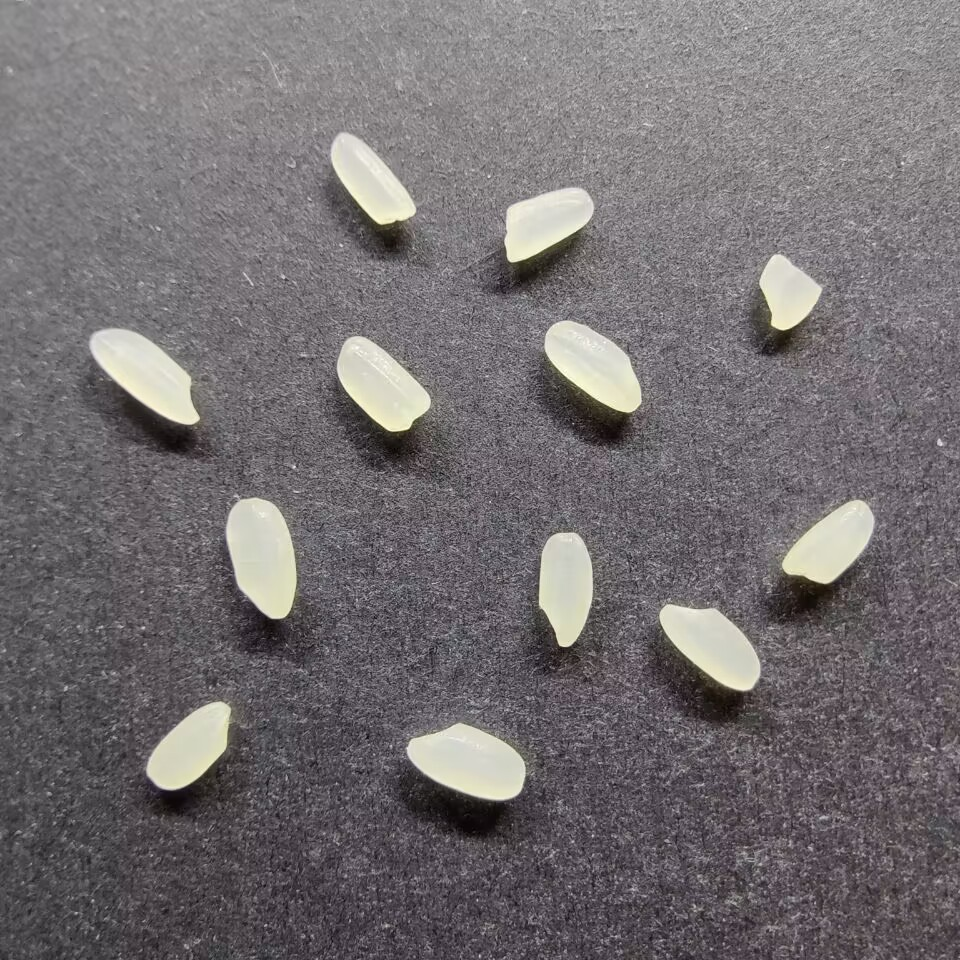broken: (755, 250, 823, 332)
rice: (88, 327, 201, 427), (404, 720, 526, 803), (543, 317, 643, 416), (334, 334, 432, 435), (657, 599, 762, 692), (224, 497, 298, 620), (779, 497, 877, 586), (143, 698, 233, 792), (330, 131, 418, 227), (501, 185, 595, 263), (536, 530, 594, 649)
